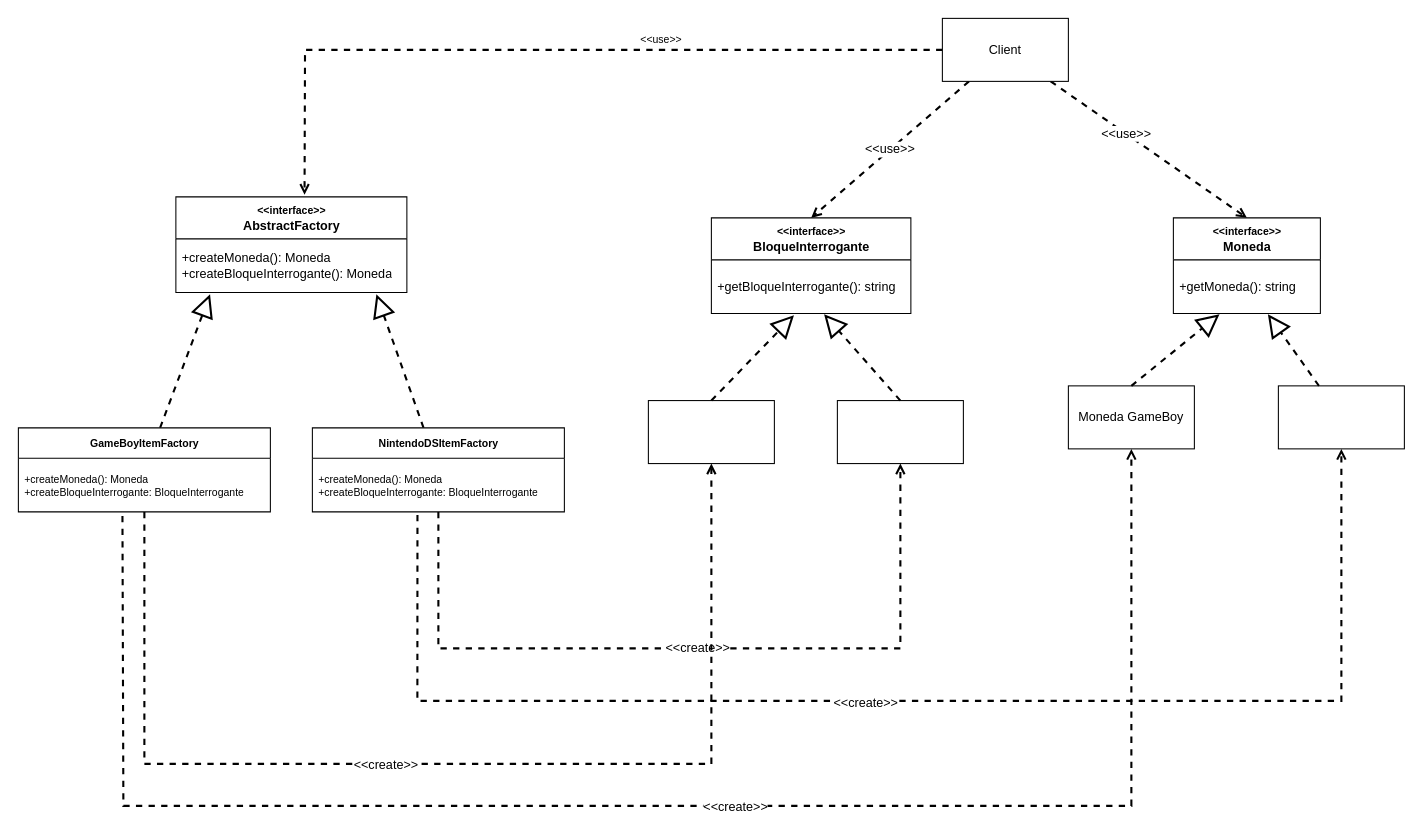
The diagram is 1423 pixels wide and 834 high, and some of its shapes have lost their labels. Here are the shapes that lost their labels. From the top down, the centre of each, then its label:
At (710,432): "Bloque Interrogante GameBoy".
At (899,432): "Bloque Interrogante Nintendo DS".
At (1340,417): "Moneda NintendoDS".
